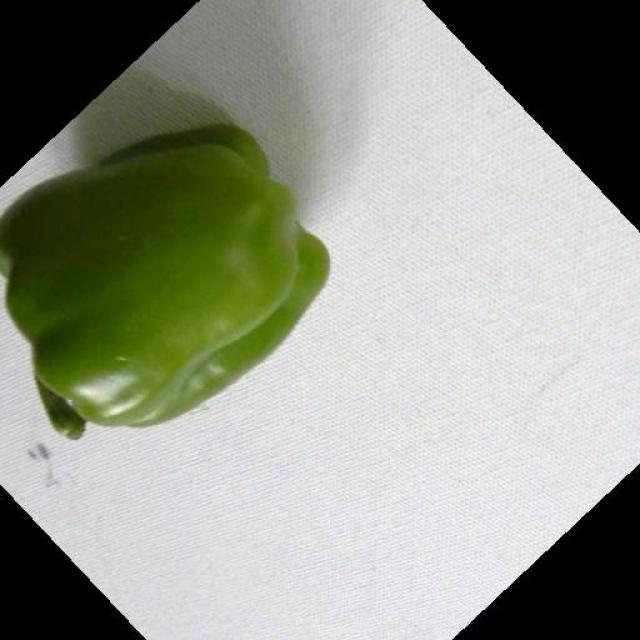Fresh_Capsicum: (0, 175, 354, 339)
